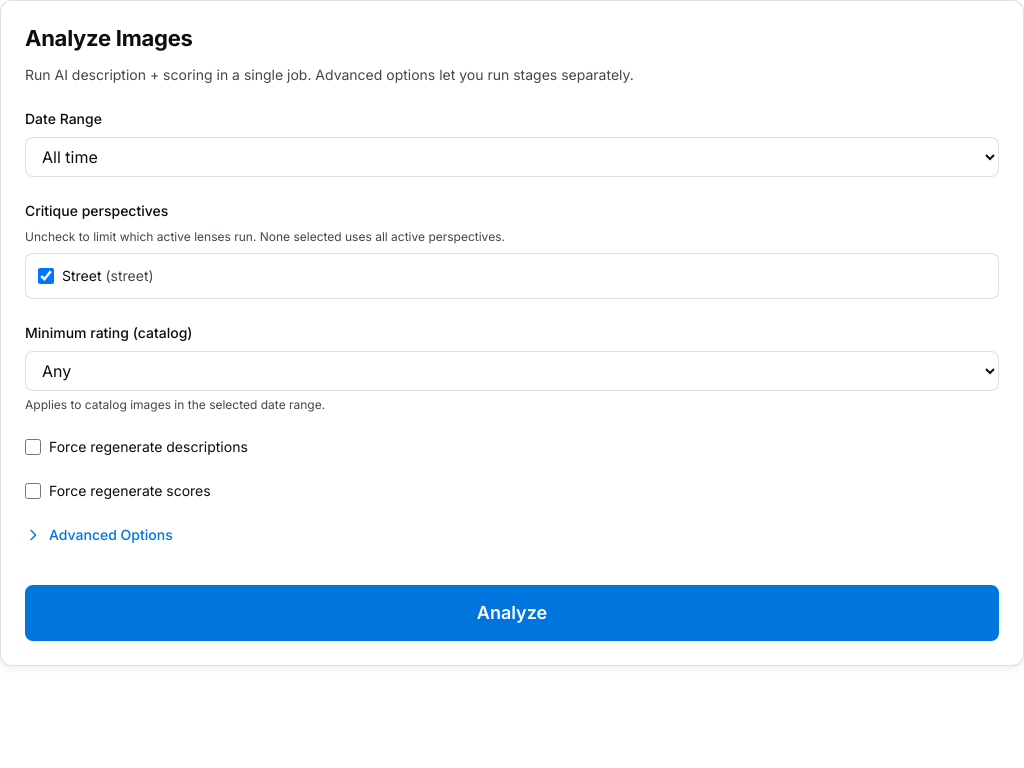
Test case: AnalyzeTab submit UX (fix #1) › shows an inline success banner (not an alert) after submission
Expected: the text "Street (street)" is shown, [62,266,154,286]
What coordinates should you click on to do the following:
click the button "Analyze"
I would click on:
 (512, 613)
Its box is [25,585,999,641].
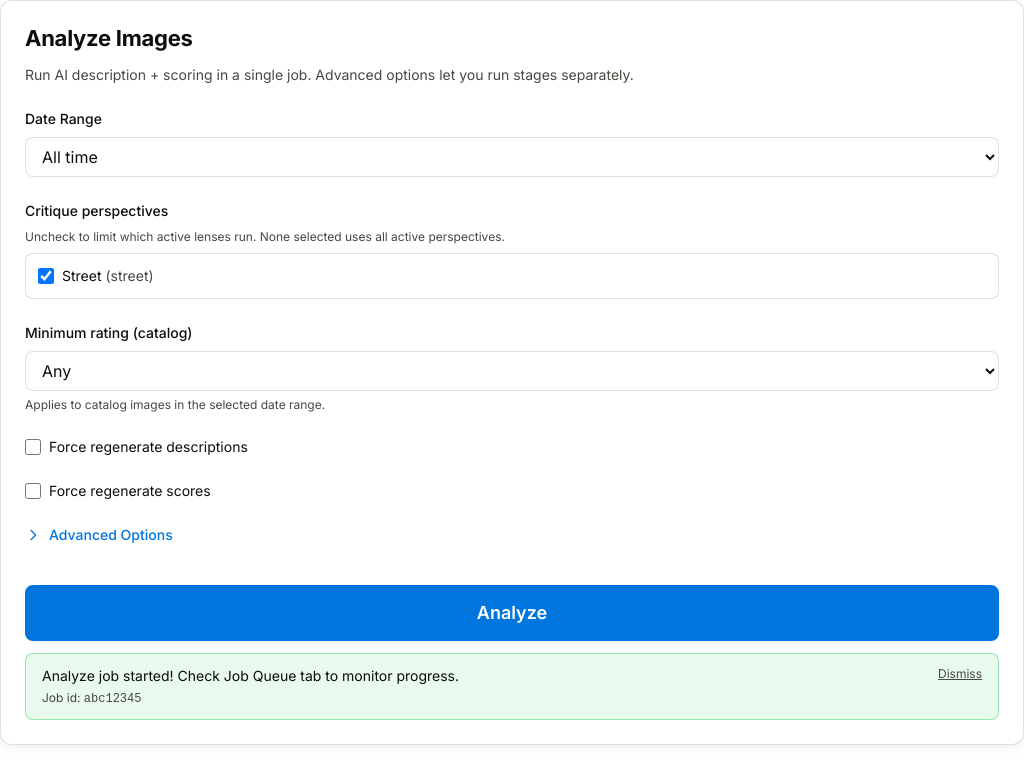
Expected: the message with test id "analyze-status-banner" shows "abc12345", [84,692,142,706]
